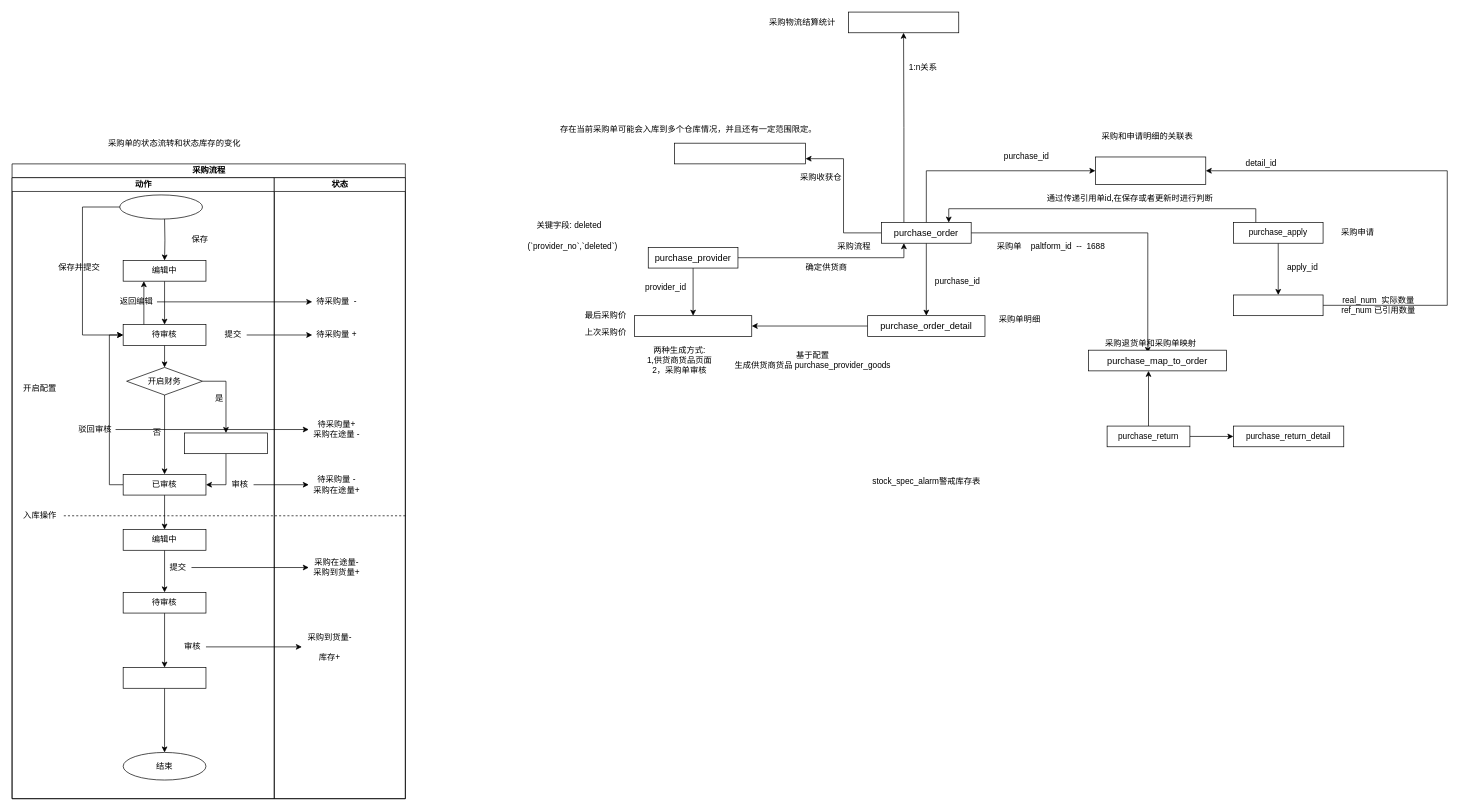
This 1465x811 diagram has some shape labels left out. The centre of each missing label's shape, as x and y in pixels:
purchase_apply_detail: [1278,305]
purchase_map_to_apply: [1150,170]
purchase_order_logistics: [903,22]
purchase_order_warehouse: [740,153]
purchase_provider_goods: [693,325]
已完成: [164,677]
开始: [161,206]
待财审: [225,443]
